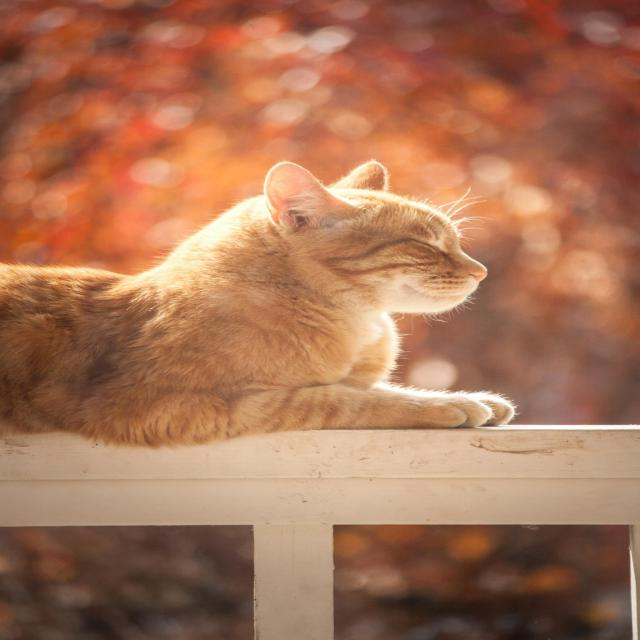Cat: (1, 158, 518, 449)
